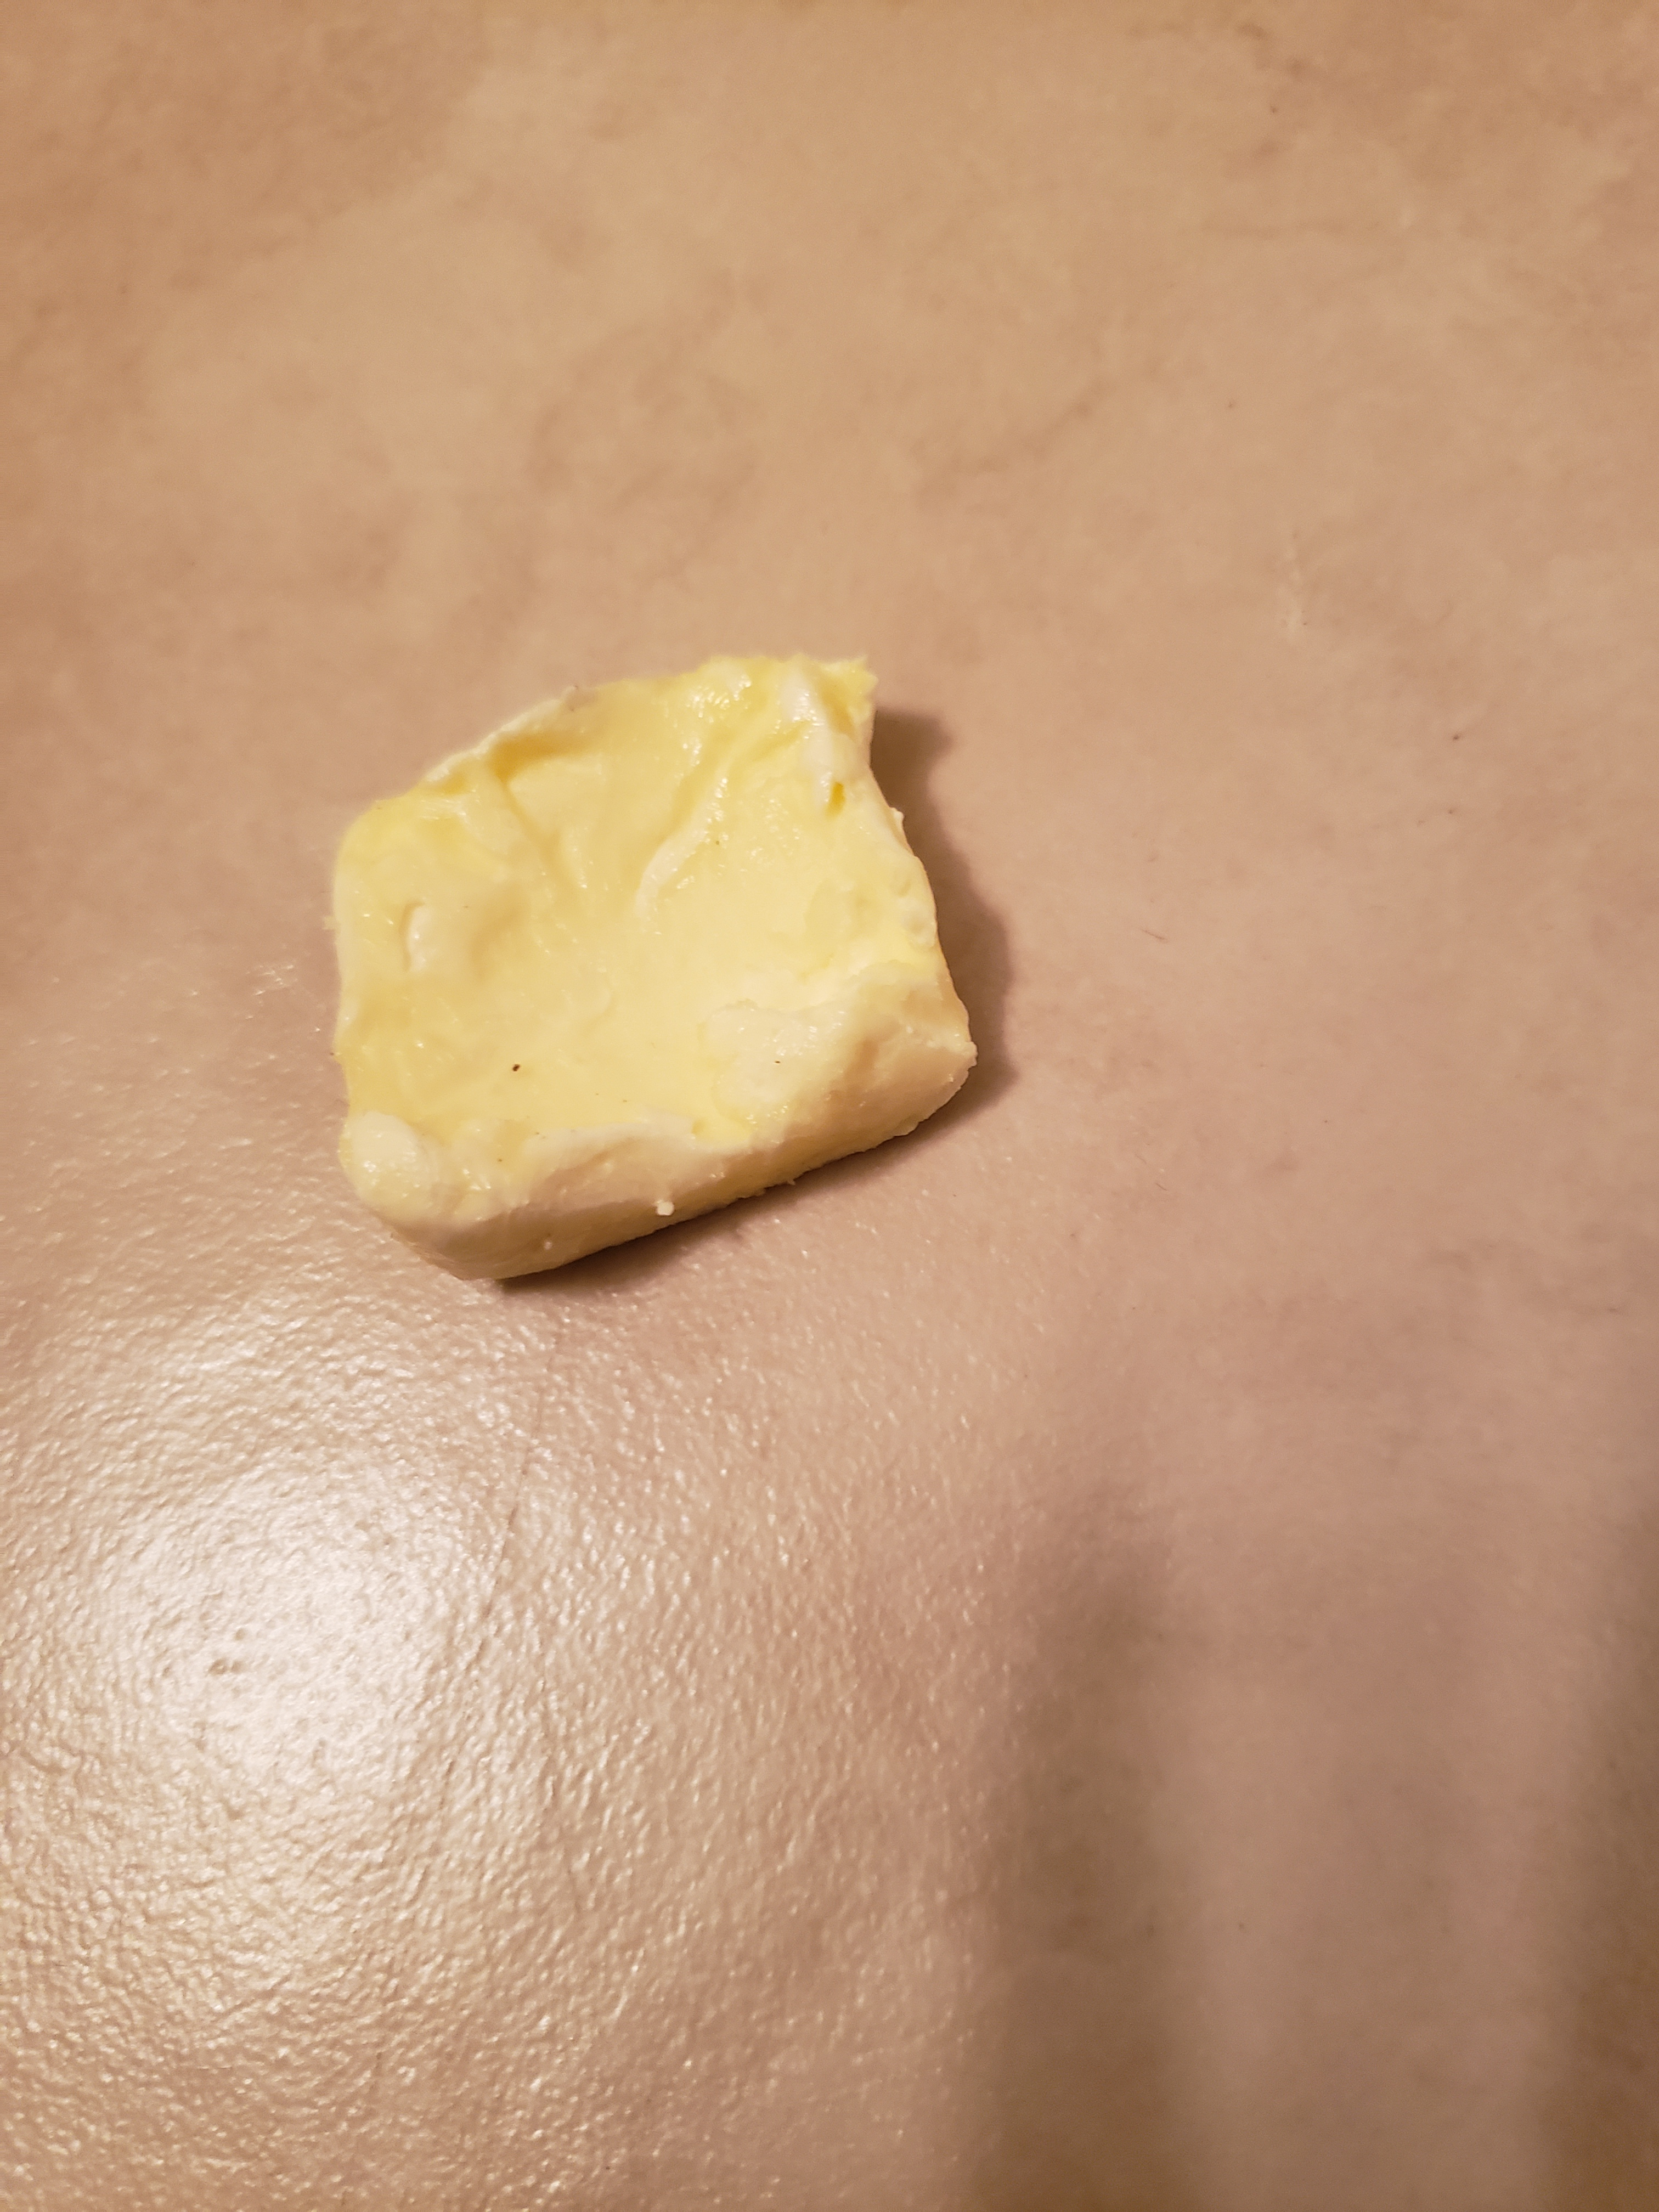Butter: (336, 651, 976, 1278)
